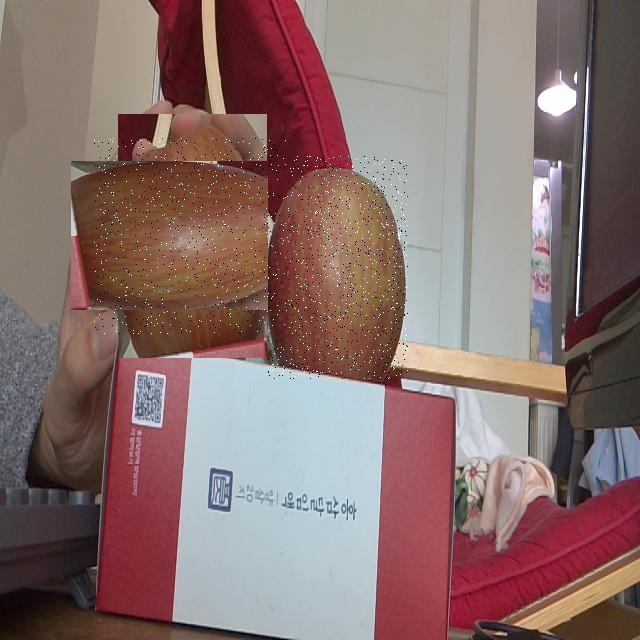apple: (94, 138, 291, 334), (268, 156, 408, 379)
